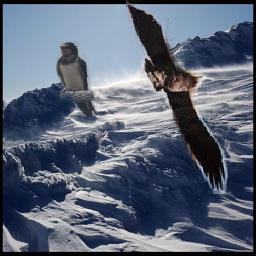Crow: (126, 0, 228, 194)
Swallow: (57, 41, 98, 117)
